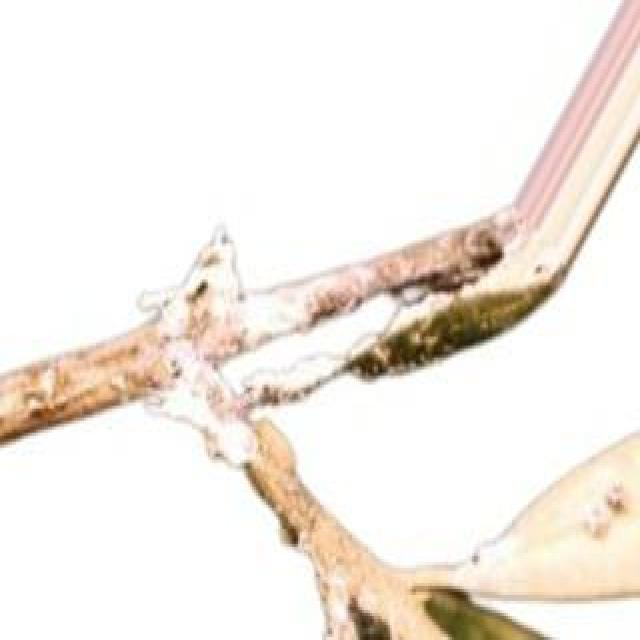Psyllid: (138, 226, 358, 472)
